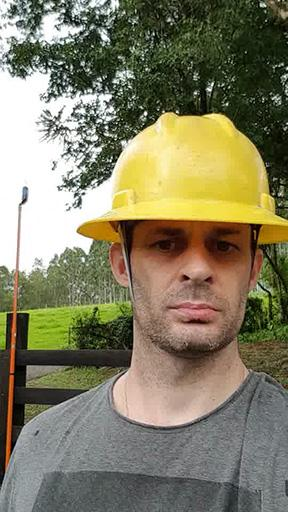Detector_Tensao_Contato: (18, 182, 30, 215)
Vara_Manobra: (1, 206, 22, 476)
